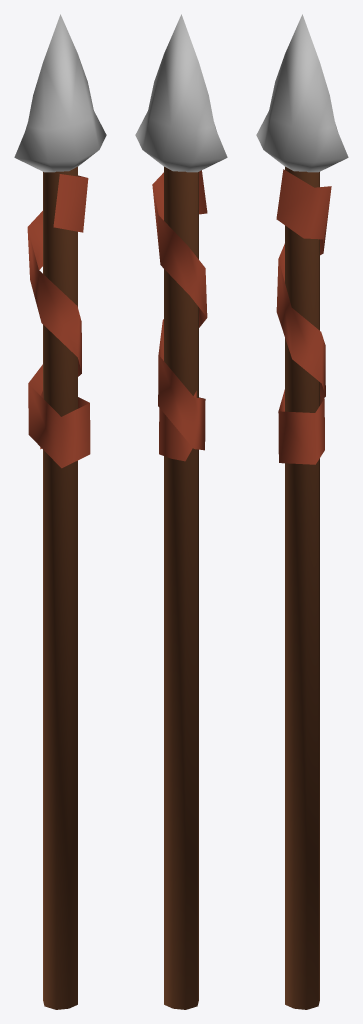
Rendered from Spear.fbx.
3 renders of one model, left to right at view 1: azimuth 30°, elevation 25°; view 2: azimuth 150°, elevation 25°; view 3: azimuth 330°, elevation 25°, orthographic.
Visible parts, largest first — view 1: Cube; view 2: Cube; view 3: Cube.
Boxes of the visible parts, left/top/right/bottom form: Cube: left=14, top=14, right=106, bottom=1009; Cube: left=135, top=14, right=227, bottom=1009; Cube: left=256, top=14, right=348, bottom=1009.
Bounding box in the file's own units: 56.97 × 583 × 39.91.
Materials: 1 (1 with a texture image).
